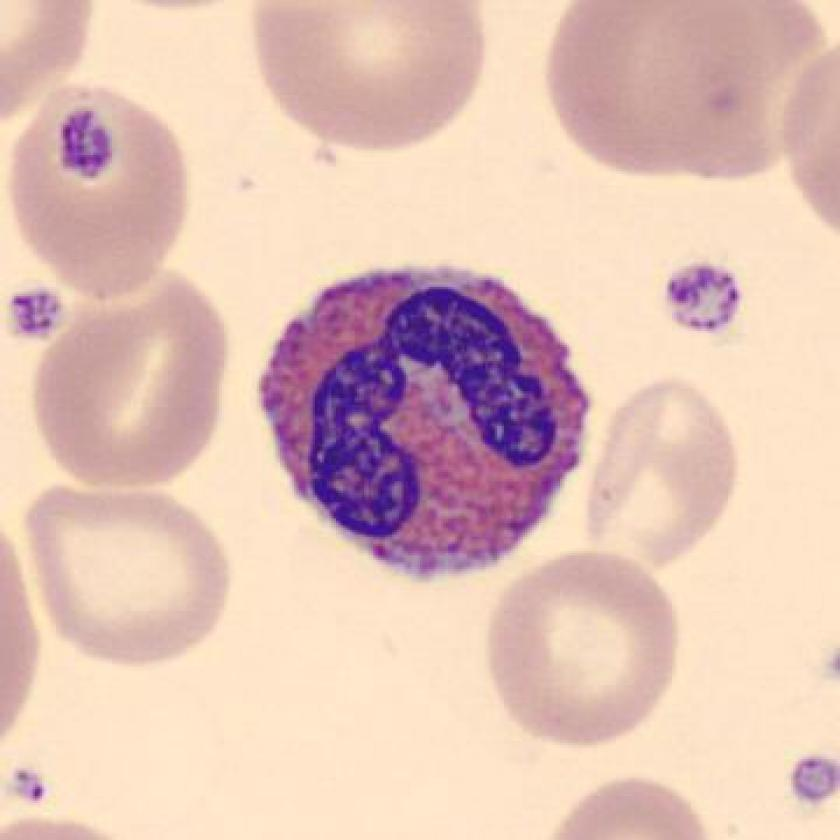eosinophil: (246, 249, 601, 598)
